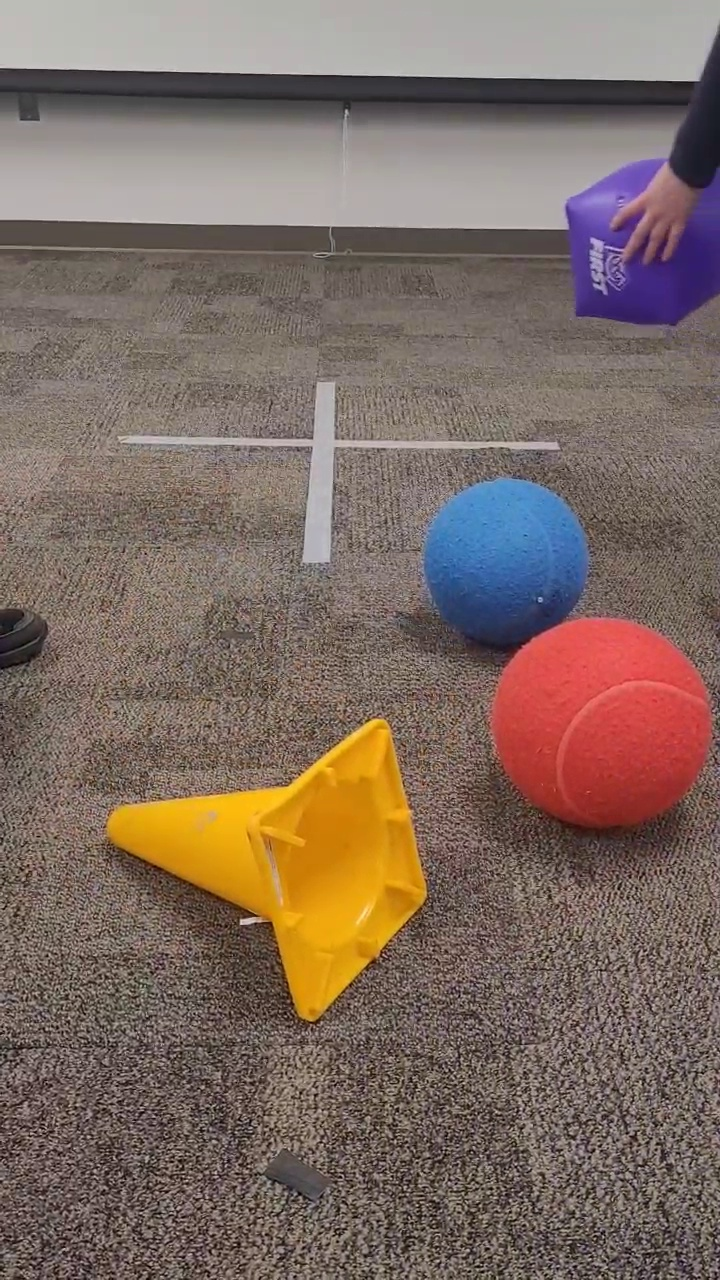ball: (486, 614, 713, 833), (421, 474, 589, 649)
cone: (103, 713, 432, 1026)
cube: (562, 151, 720, 329)
foot: (1, 601, 52, 674)
hand: (608, 19, 720, 270)
